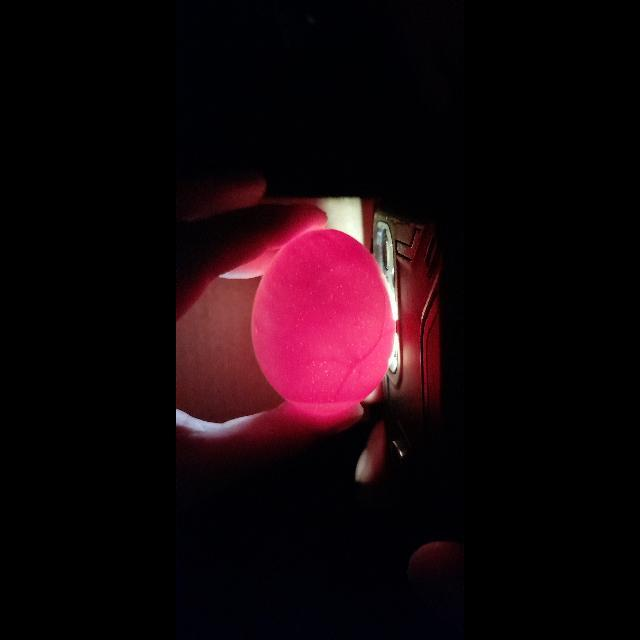Fertile: (262, 228, 394, 412)
